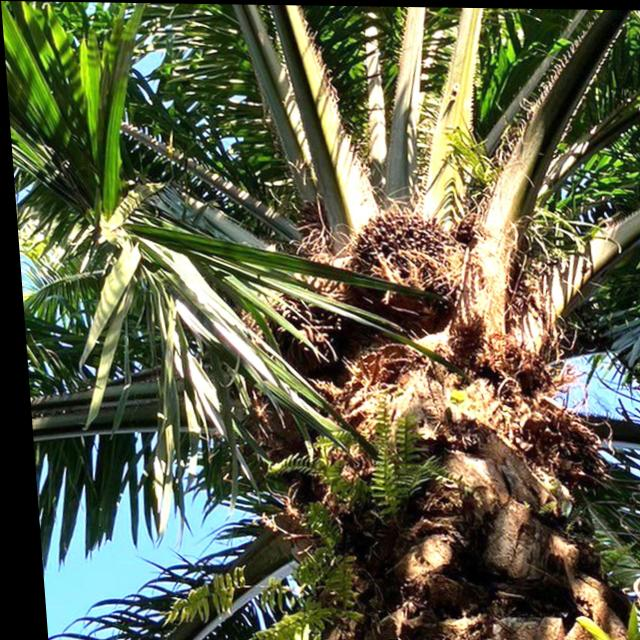almost: (334, 195, 460, 307)
